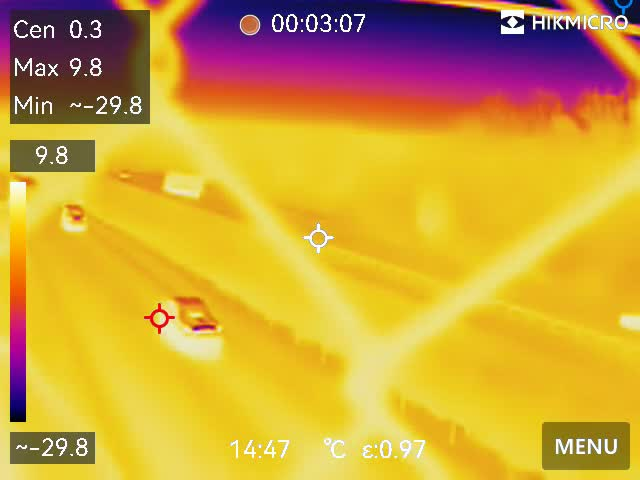heavyTruck: (154, 166, 206, 199)
lightTruck: (156, 287, 225, 342)
vehicle: (59, 196, 88, 235)
